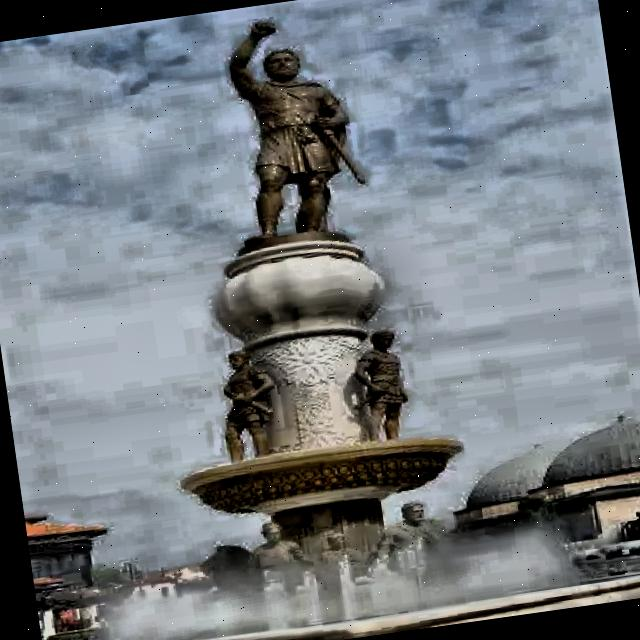Philip II of Macedonia: (109, 0, 484, 594)
